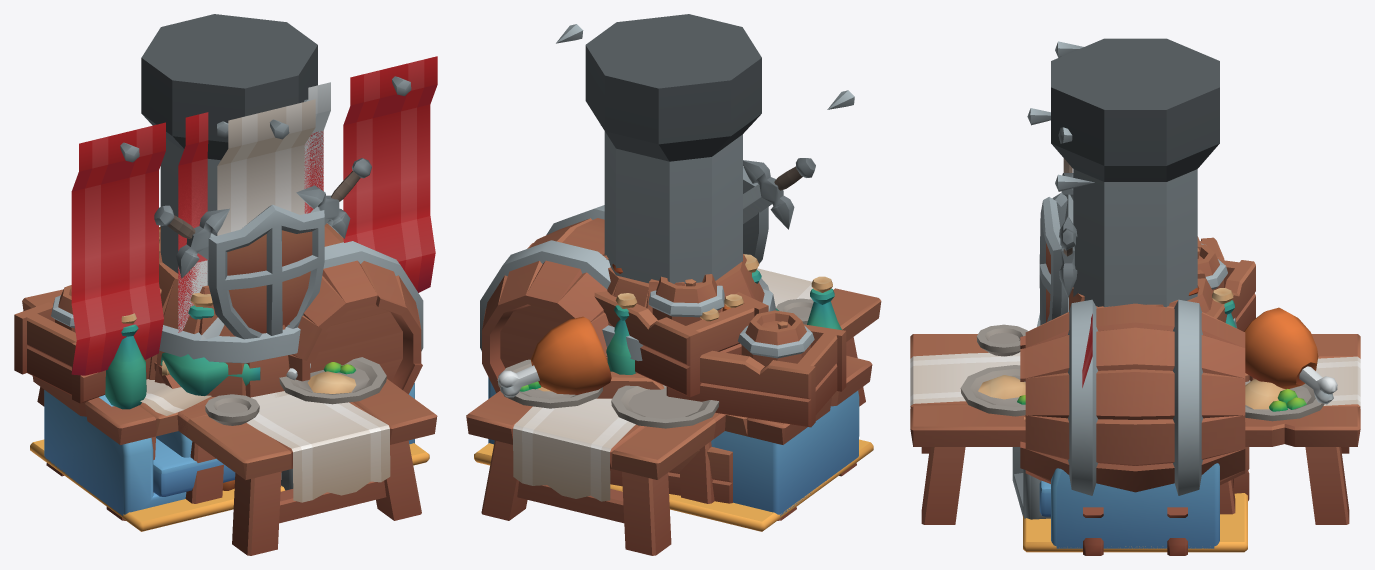
Rendered from casino.glb.
3 renders of one model, left to right at view 1: azimuth 30°, elevation 25°; view 2: azimuth 150°, elevation 25°; view 3: azimuth 270°, elevation 25°, orthographic.
Visible parts, largest first — view 1: pillar_decorated, banner_triple_red, table_long_tablecloth_decorated_A, keg_decorated, couch, barrel_large_decorated, banner_patternA_red, rug_rectangle_A, table_medium_tablecloth_decorated_B, armchair; view 2: pillar_decorated, table_long_tablecloth_decorated_A, keg_decorated, crates_stacked, couch, rug_rectangle_A, barrel_large_decorated, table_medium_tablecloth_decorated_B, banner_triple_red; view 3: pillar_decorated, keg_decorated, table_long_tablecloth_decorated_A, couch, crates_stacked, rug_rectangle_A, banner_triple_red, barrel_large_decorated.
Part boxes in pixels (x1,y1,x2,y2): pillar_decorated: (141,14,371,339); banner_triple_red: (71,56,437,375); table_long_tablecloth_decorated_A: (22,226,437,555); keg_decorated: (14,223,423,520); couch: (44,383,414,515); barrel_large_decorated: (148,262,300,397); banner_patternA_red: (178,82,330,332); rug_rectangle_A: (30,439,429,531); table_medium_tablecloth_decorated_B: (177,391,289,503); armchair: (156,431,235,482); pillar_decorated: (585,14,815,290); table_long_tablecloth_decorated_A: (466,268,881,555); keg_decorated: (480,205,872,520); crates_stacked: (594,264,768,503); couch: (488,377,859,516); rug_rectangle_A: (474,439,873,531); barrel_large_decorated: (602,254,776,373); table_medium_tablecloth_decorated_B: (680,412,725,503); banner_triple_red: (556,24,854,109); pillar_decorated: (1027,38,1219,325); keg_decorated: (1020,236,1245,555); table_long_tablecloth_decorated_A: (910,288,1360,524); couch: (1039,463,1219,548); crates_stacked: (1012,244,1255,519); rug_rectangle_A: (1023,493,1247,552); banner_triple_red: (1055,41,1094,387); barrel_large_decorated: (1037,269,1237,328).
Bounding box in the file's own units: 3.7 × 4.4 × 4.
Materials: 2 (2 with a texture image).
